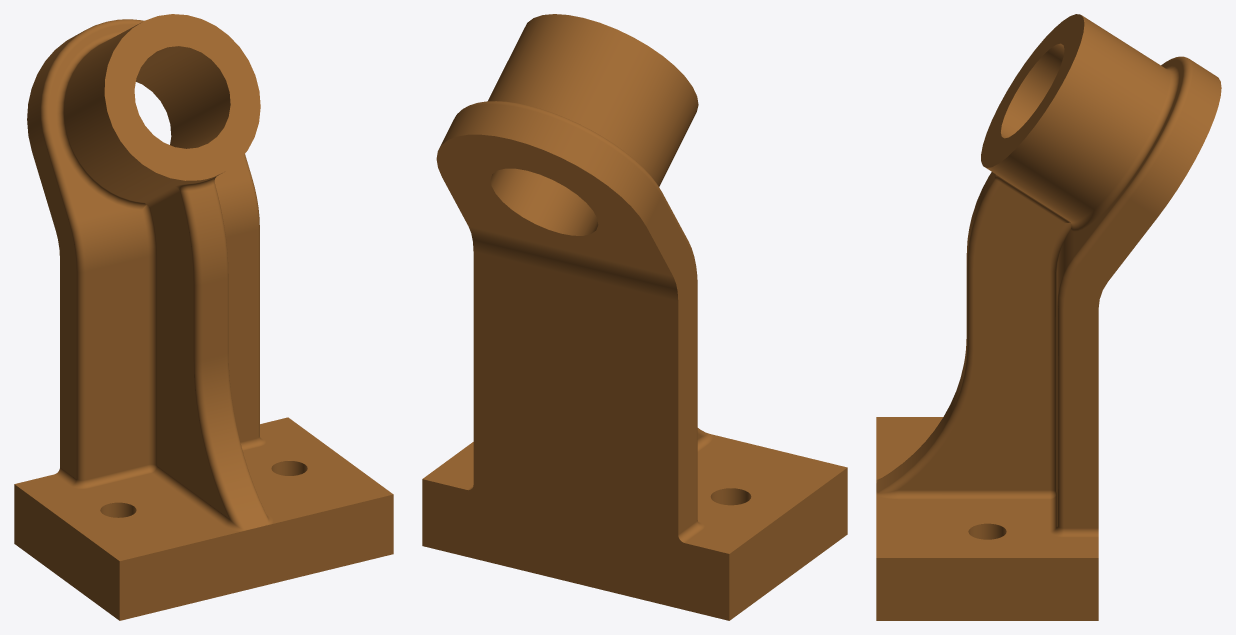
File: solidworks-model-mania2.glb
3 renders of one model, left to right at view 1: azimuth 30°, elevation 25°; view 2: azimuth 150°, elevation 25°; view 3: azimuth 270°, elevation 25°, orthographic. The views are drawn at different scales.
Parts seen in each view (by area): view 1: Model_Mania_2001; view 2: Model_Mania_2001; view 3: Model_Mania_2001.
Boxes of the visible parts, box(x1,y1,x2,y2) form: Model_Mania_2001: box(14, 14, 393, 620); Model_Mania_2001: box(422, 14, 847, 620); Model_Mania_2001: box(876, 14, 1221, 620).
Size of the model in its own units: 0.096 by 0.1673 by 0.0994.
